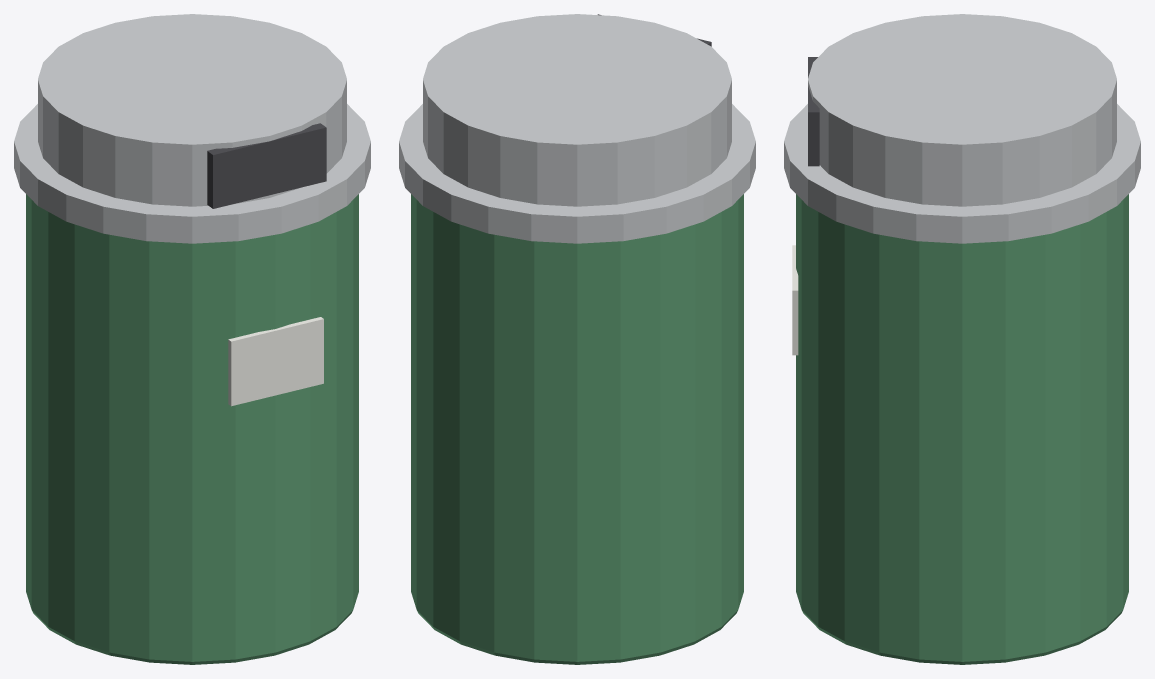
Rendered from dustbin.gltf.
3 views of the same model, side by side, from view 1: azimuth 30°, elevation 25°; view 2: azimuth 150°, elevation 25°; view 3: azimuth 270°, elevation 25° (orthographic).
Parts seen in each view (by area): view 1: Body, Lid, Rim, Flap, Label; view 2: Body, Lid, Rim; view 3: Body, Lid, Rim, Flap, Label.
Part boxes in pixels (box(x1,y1,x2,y2)): Body: box(26, 194, 358, 664); Lid: box(38, 14, 346, 206); Rim: box(14, 104, 370, 243); Flap: box(207, 123, 326, 208); Label: box(228, 317, 323, 406); Body: box(411, 194, 743, 664); Lid: box(423, 14, 731, 206); Rim: box(399, 104, 755, 243); Body: box(796, 194, 1128, 664); Lid: box(808, 14, 1116, 206); Rim: box(784, 104, 1140, 243); Flap: box(808, 57, 819, 166); Label: box(792, 245, 798, 355).
Size of the model in its own units: 0.6 by 0.96 by 0.6.
